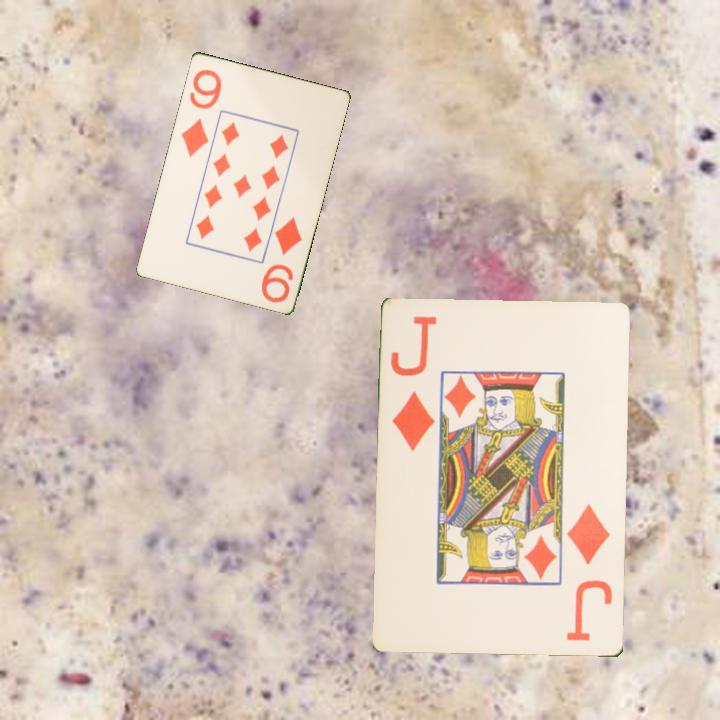9d: (177, 65, 224, 160), (257, 213, 305, 305)
Jd: (563, 501, 616, 645), (387, 313, 440, 455)
